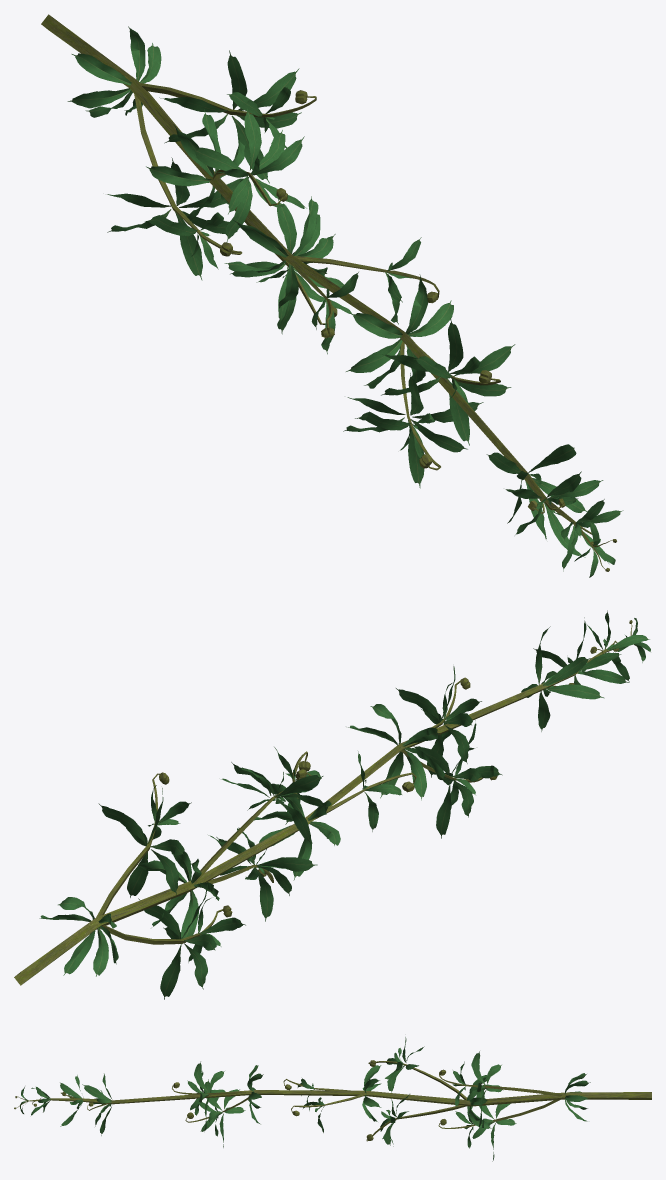
3 views of the same model, one above another, from view 1: azimuth 30°, elevation 25°; view 2: azimuth 150°, elevation 25°; view 3: azimuth 270°, elevation 25° (orthographic). The views are drawn at different scales.
Parts seen in each view (by area): view 1: GC09_2; view 2: GC09_2; view 3: GC09_2.
Part boxes in pixels (x1,y1,x2,y2): GC09_2: (41,14,623,577); GC09_2: (14,610,650,999); GC09_2: (14,1037,651,1161).
Size of the model in its own units: 0.6226 by 0.6809 by 3.29.
2 materials, 2 textured.
